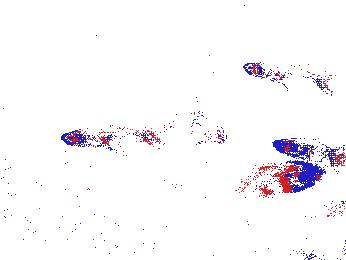X-ray fish: (236, 160, 324, 199)
red belly glassfish: (291, 201, 346, 220)
redtail glassfish: (241, 57, 340, 99), (57, 119, 168, 156), (270, 134, 341, 166)
